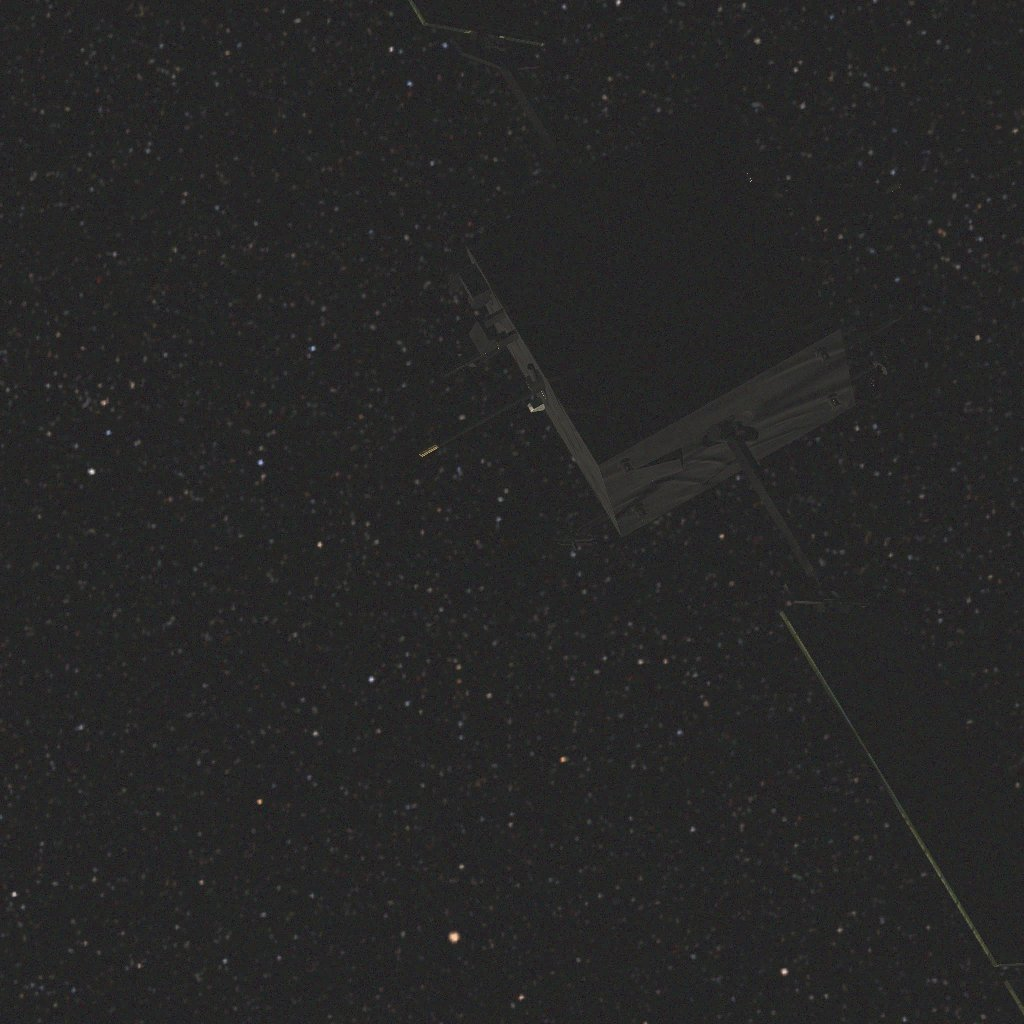smart_1: (409, 0, 1024, 1015)
